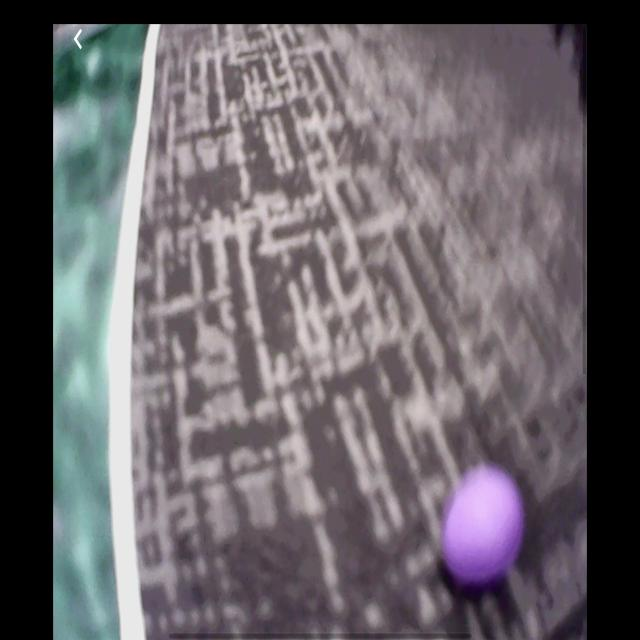ball: (441, 462, 526, 589)
